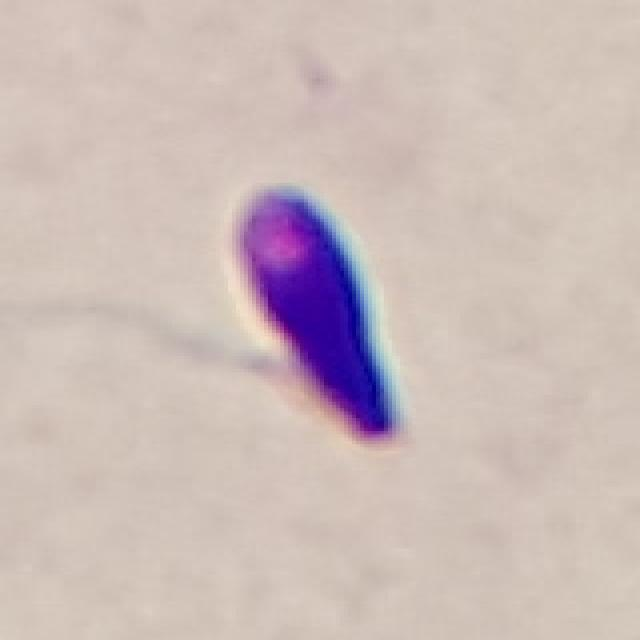abnormal sperm: (56, 176, 428, 459)
